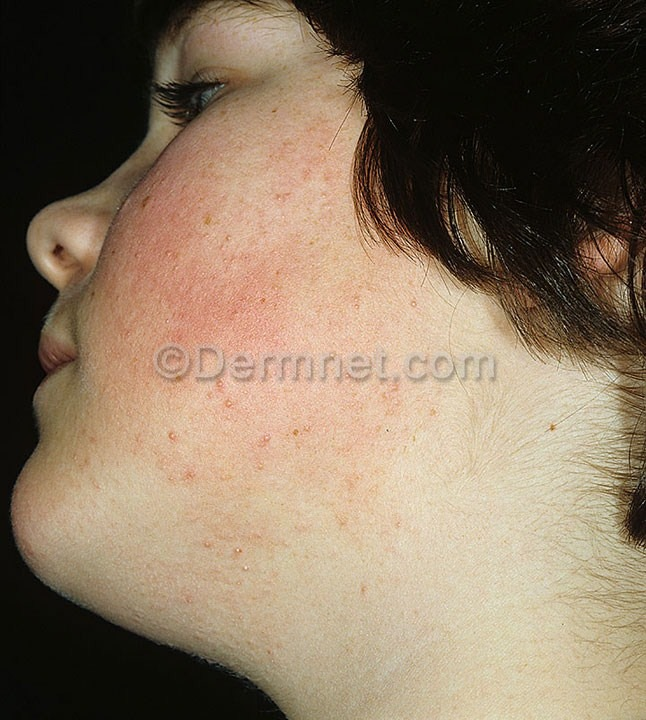Eczema: (77, 113, 450, 627)
